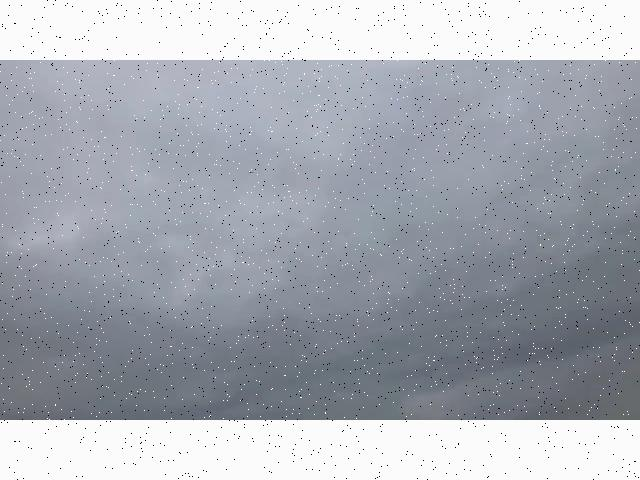Anti-Drone: (242, 169, 262, 177)
